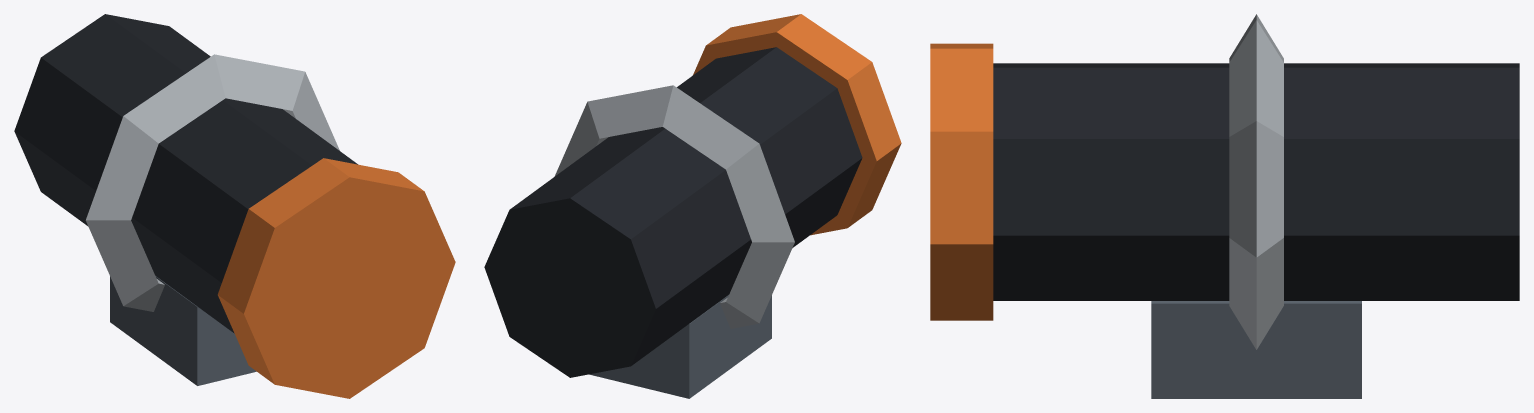
File: collimator-flux.glb
The picture shows the model from 3 angles, left to right: view 1: azimuth 30°, elevation 25°; view 2: azimuth 150°, elevation 25°; view 3: azimuth 270°, elevation 25°; orthographic projection. The views are drawn at different scales.
Parts seen in each view (by area): view 1: m; view 2: m; view 3: m.
Part boxes in pixels (x1=…): m: x1=14, y1=14, x2=455, y2=398; m: x1=484, y1=14, x2=901, y2=398; m: x1=930, y1=14, x2=1519, y2=398.
Bounding box in the file's own units: 0.0364 × 0.0386 × 0.06.
